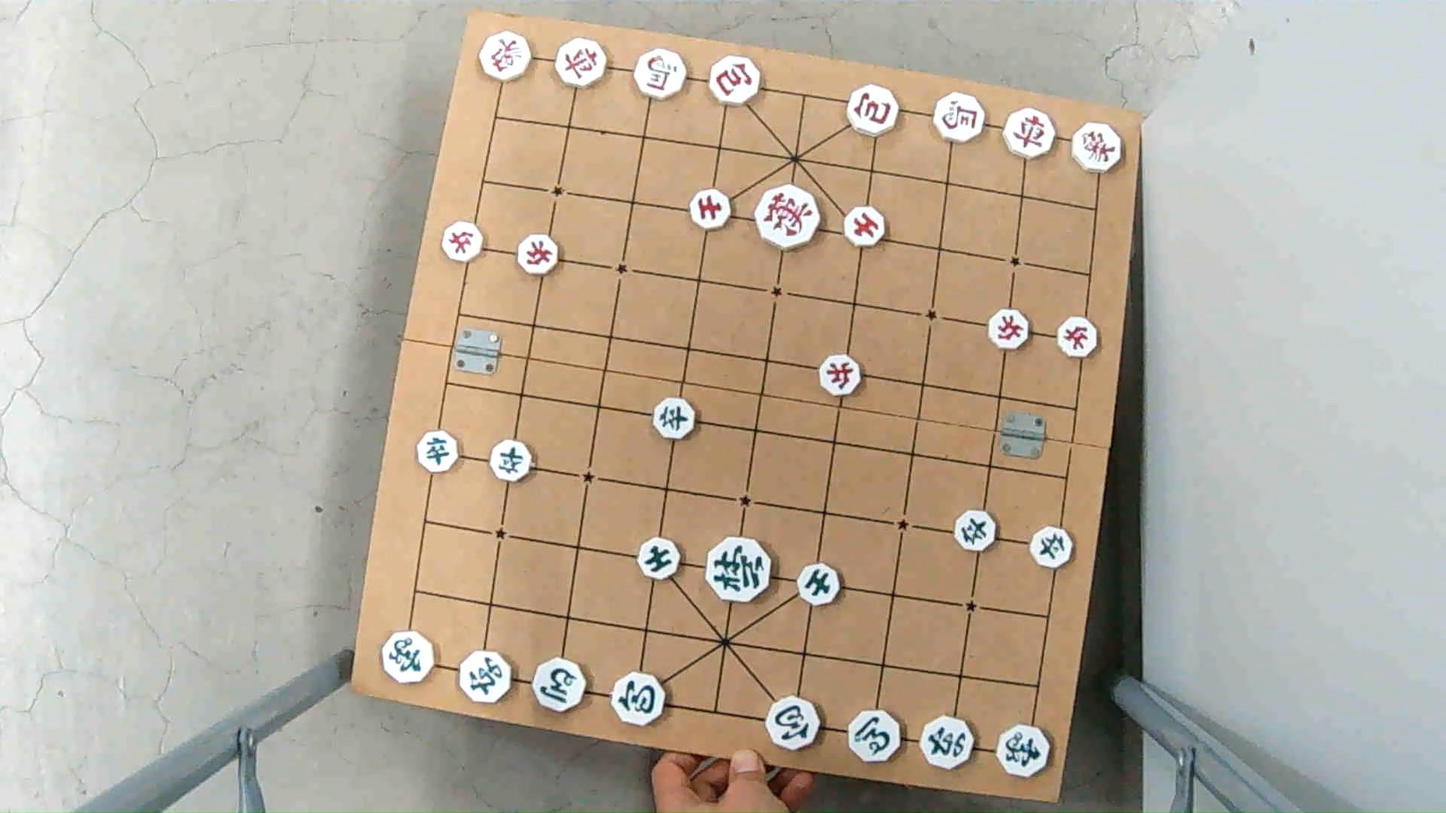cha_green: (920, 717, 978, 767), (457, 655, 514, 705)
cha_red: (554, 37, 607, 90), (1002, 111, 1059, 158)
jol_green: (651, 397, 700, 440), (488, 443, 537, 480), (1028, 529, 1077, 566), (952, 513, 999, 550), (415, 434, 462, 470)
jol_red: (985, 310, 1031, 350), (815, 358, 865, 394), (444, 224, 492, 260), (1051, 318, 1097, 355), (514, 239, 561, 275)
ma_green: (533, 660, 590, 710), (847, 714, 904, 763)
ma_red: (933, 94, 990, 140), (633, 54, 690, 99)
po_green: (609, 676, 666, 726), (766, 699, 823, 748)
po_red: (704, 59, 765, 105), (839, 87, 897, 133)
sa_green: (637, 535, 682, 579), (794, 566, 843, 604)
sa_red: (844, 206, 889, 248), (688, 193, 736, 229)
sang_green: (382, 632, 438, 684), (996, 728, 1052, 776)
sang_red: (1068, 125, 1124, 170), (478, 34, 535, 78)
wang_green: (706, 543, 776, 601)
wang_red: (754, 187, 822, 248)
